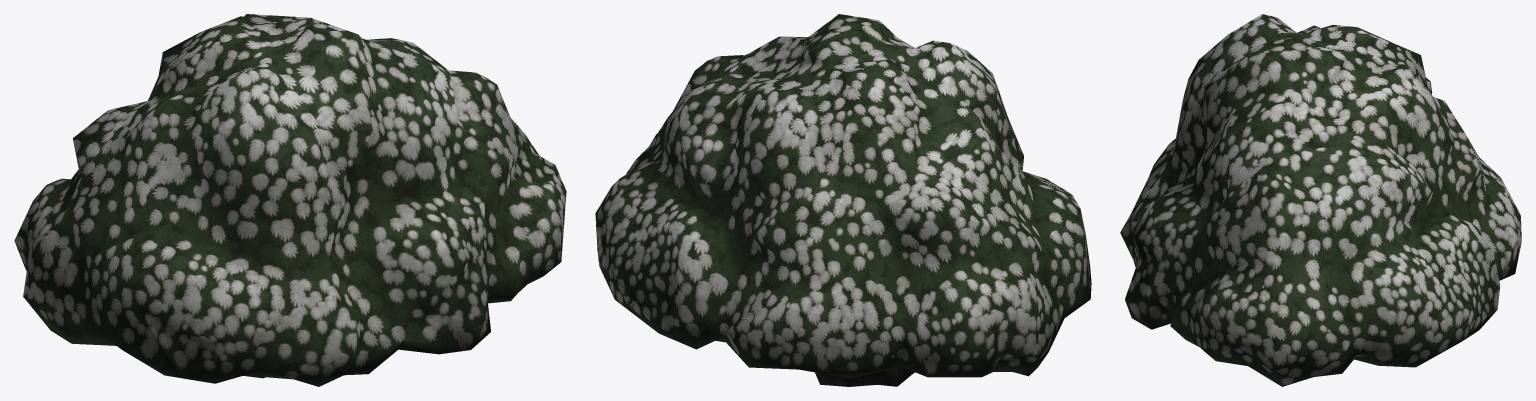
File: Tree-Bocote-white-GB.fbx
3 renders of one model, left to right at view 1: azimuth 30°, elevation 25°; view 2: azimuth 150°, elevation 25°; view 3: azimuth 270°, elevation 25°, orthographic. The views are drawn at different scales.
Visible parts, largest first — view 1: BocoteTree_Mesh; view 2: BocoteTree_Mesh; view 3: BocoteTree_Mesh.
Part boxes in pixels (x1=…): BocoteTree_Mesh: x1=14, y1=14, x2=566, y2=386; BocoteTree_Mesh: x1=595, y1=14, x2=1091, y2=386; BocoteTree_Mesh: x1=1120, y1=14, x2=1521, y2=386.
Bounding box in the file's own units: 385 × 252 × 308.
1 material, 1 textured.
